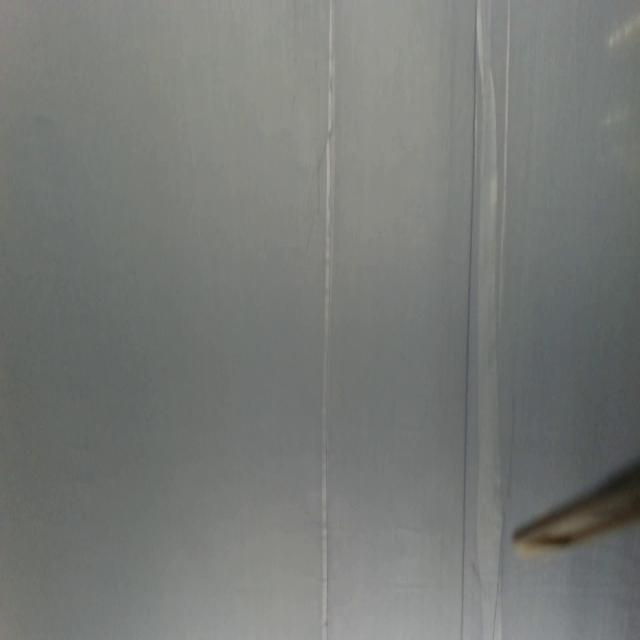crease: (459, 0, 480, 639), (320, 0, 338, 637), (494, 0, 516, 332), (489, 506, 509, 640)
